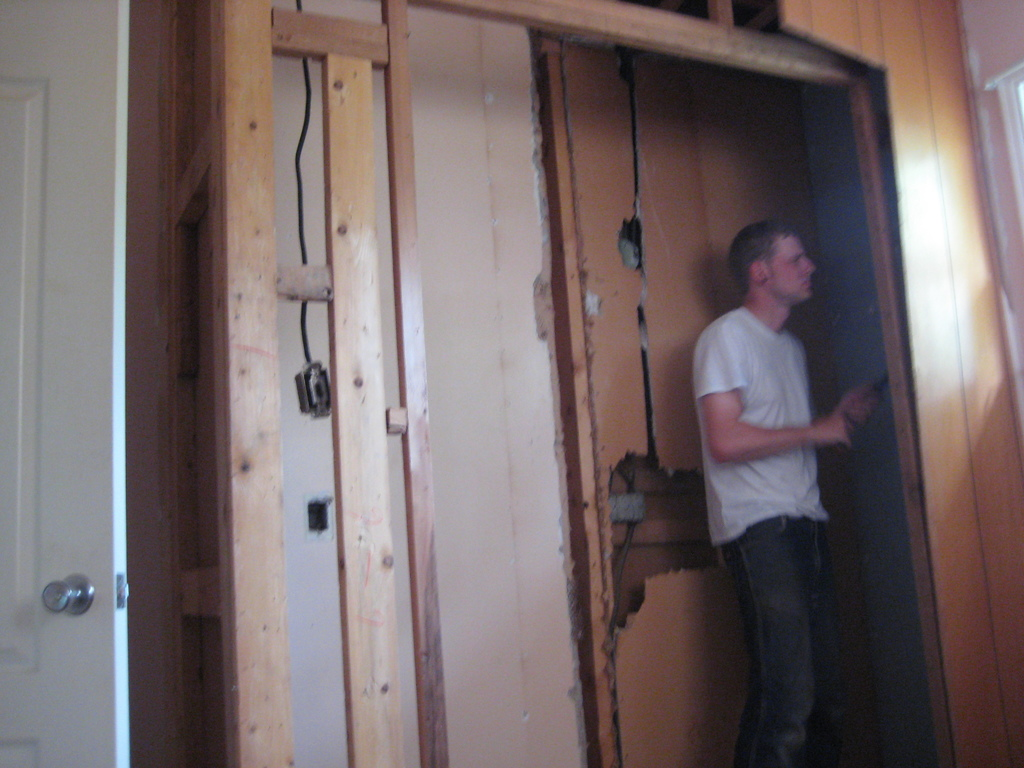door: (1, 3, 125, 766)
handle: (38, 567, 91, 619)
